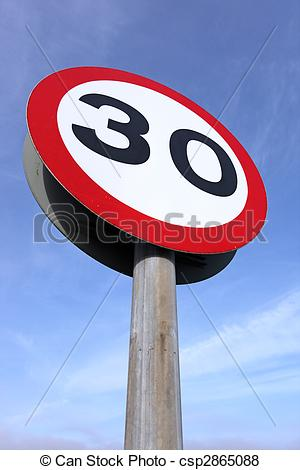Speed_limit_30km: (26, 64, 271, 254)
